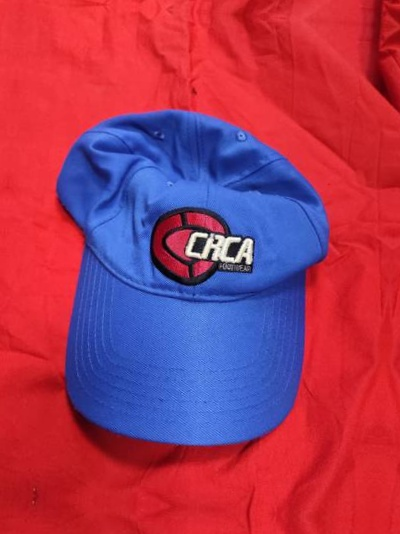Hat: (15, 57, 357, 462)
